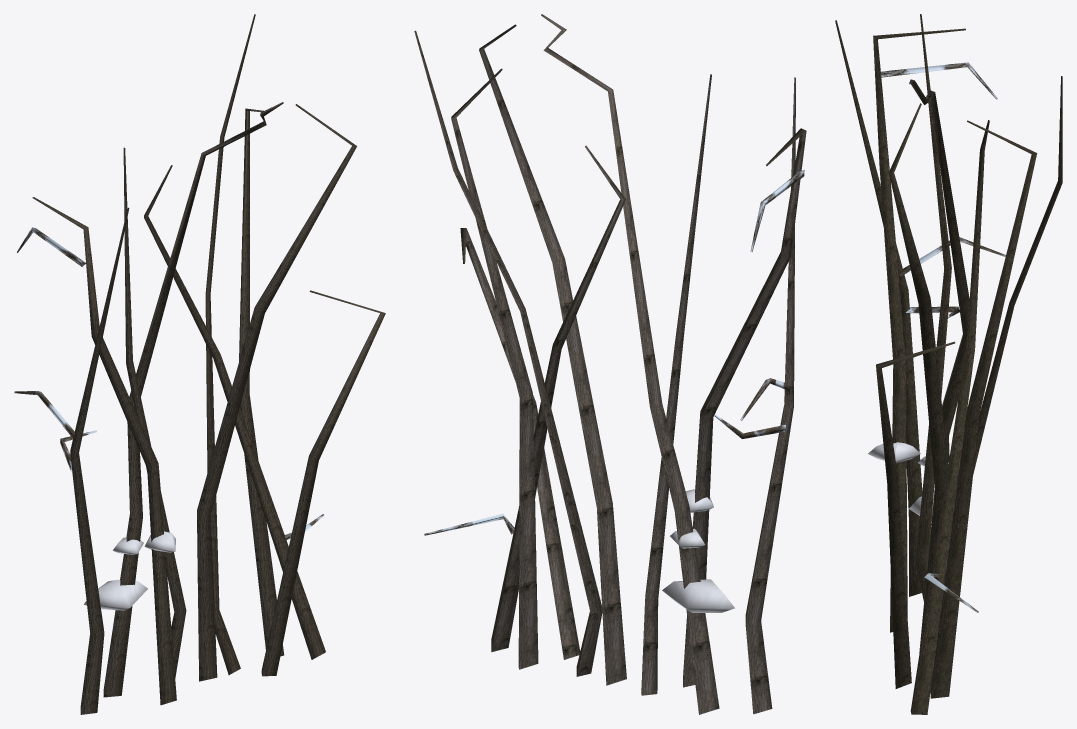
Rendered from hd_thornwall_far.glb.
The picture shows the model from 3 angles, left to right: view 1: azimuth 30°, elevation 25°; view 2: azimuth 150°, elevation 25°; view 3: azimuth 270°, elevation 25°; orthographic projection. The views are drawn at different scales.
Visible parts, largest first — view 1: hd_thornwall_far; view 2: hd_thornwall_far; view 3: hd_thornwall_far.
Boxes of the visible parts, box(x1,y1,x2,y2) form: hd_thornwall_far: box(14, 14, 385, 714); hd_thornwall_far: box(414, 14, 806, 714); hd_thornwall_far: box(835, 14, 1062, 714).
Bounding box in the file's own units: 1.73 × 3.14 × 1.01.
Materials: 1 (1 with a texture image).
